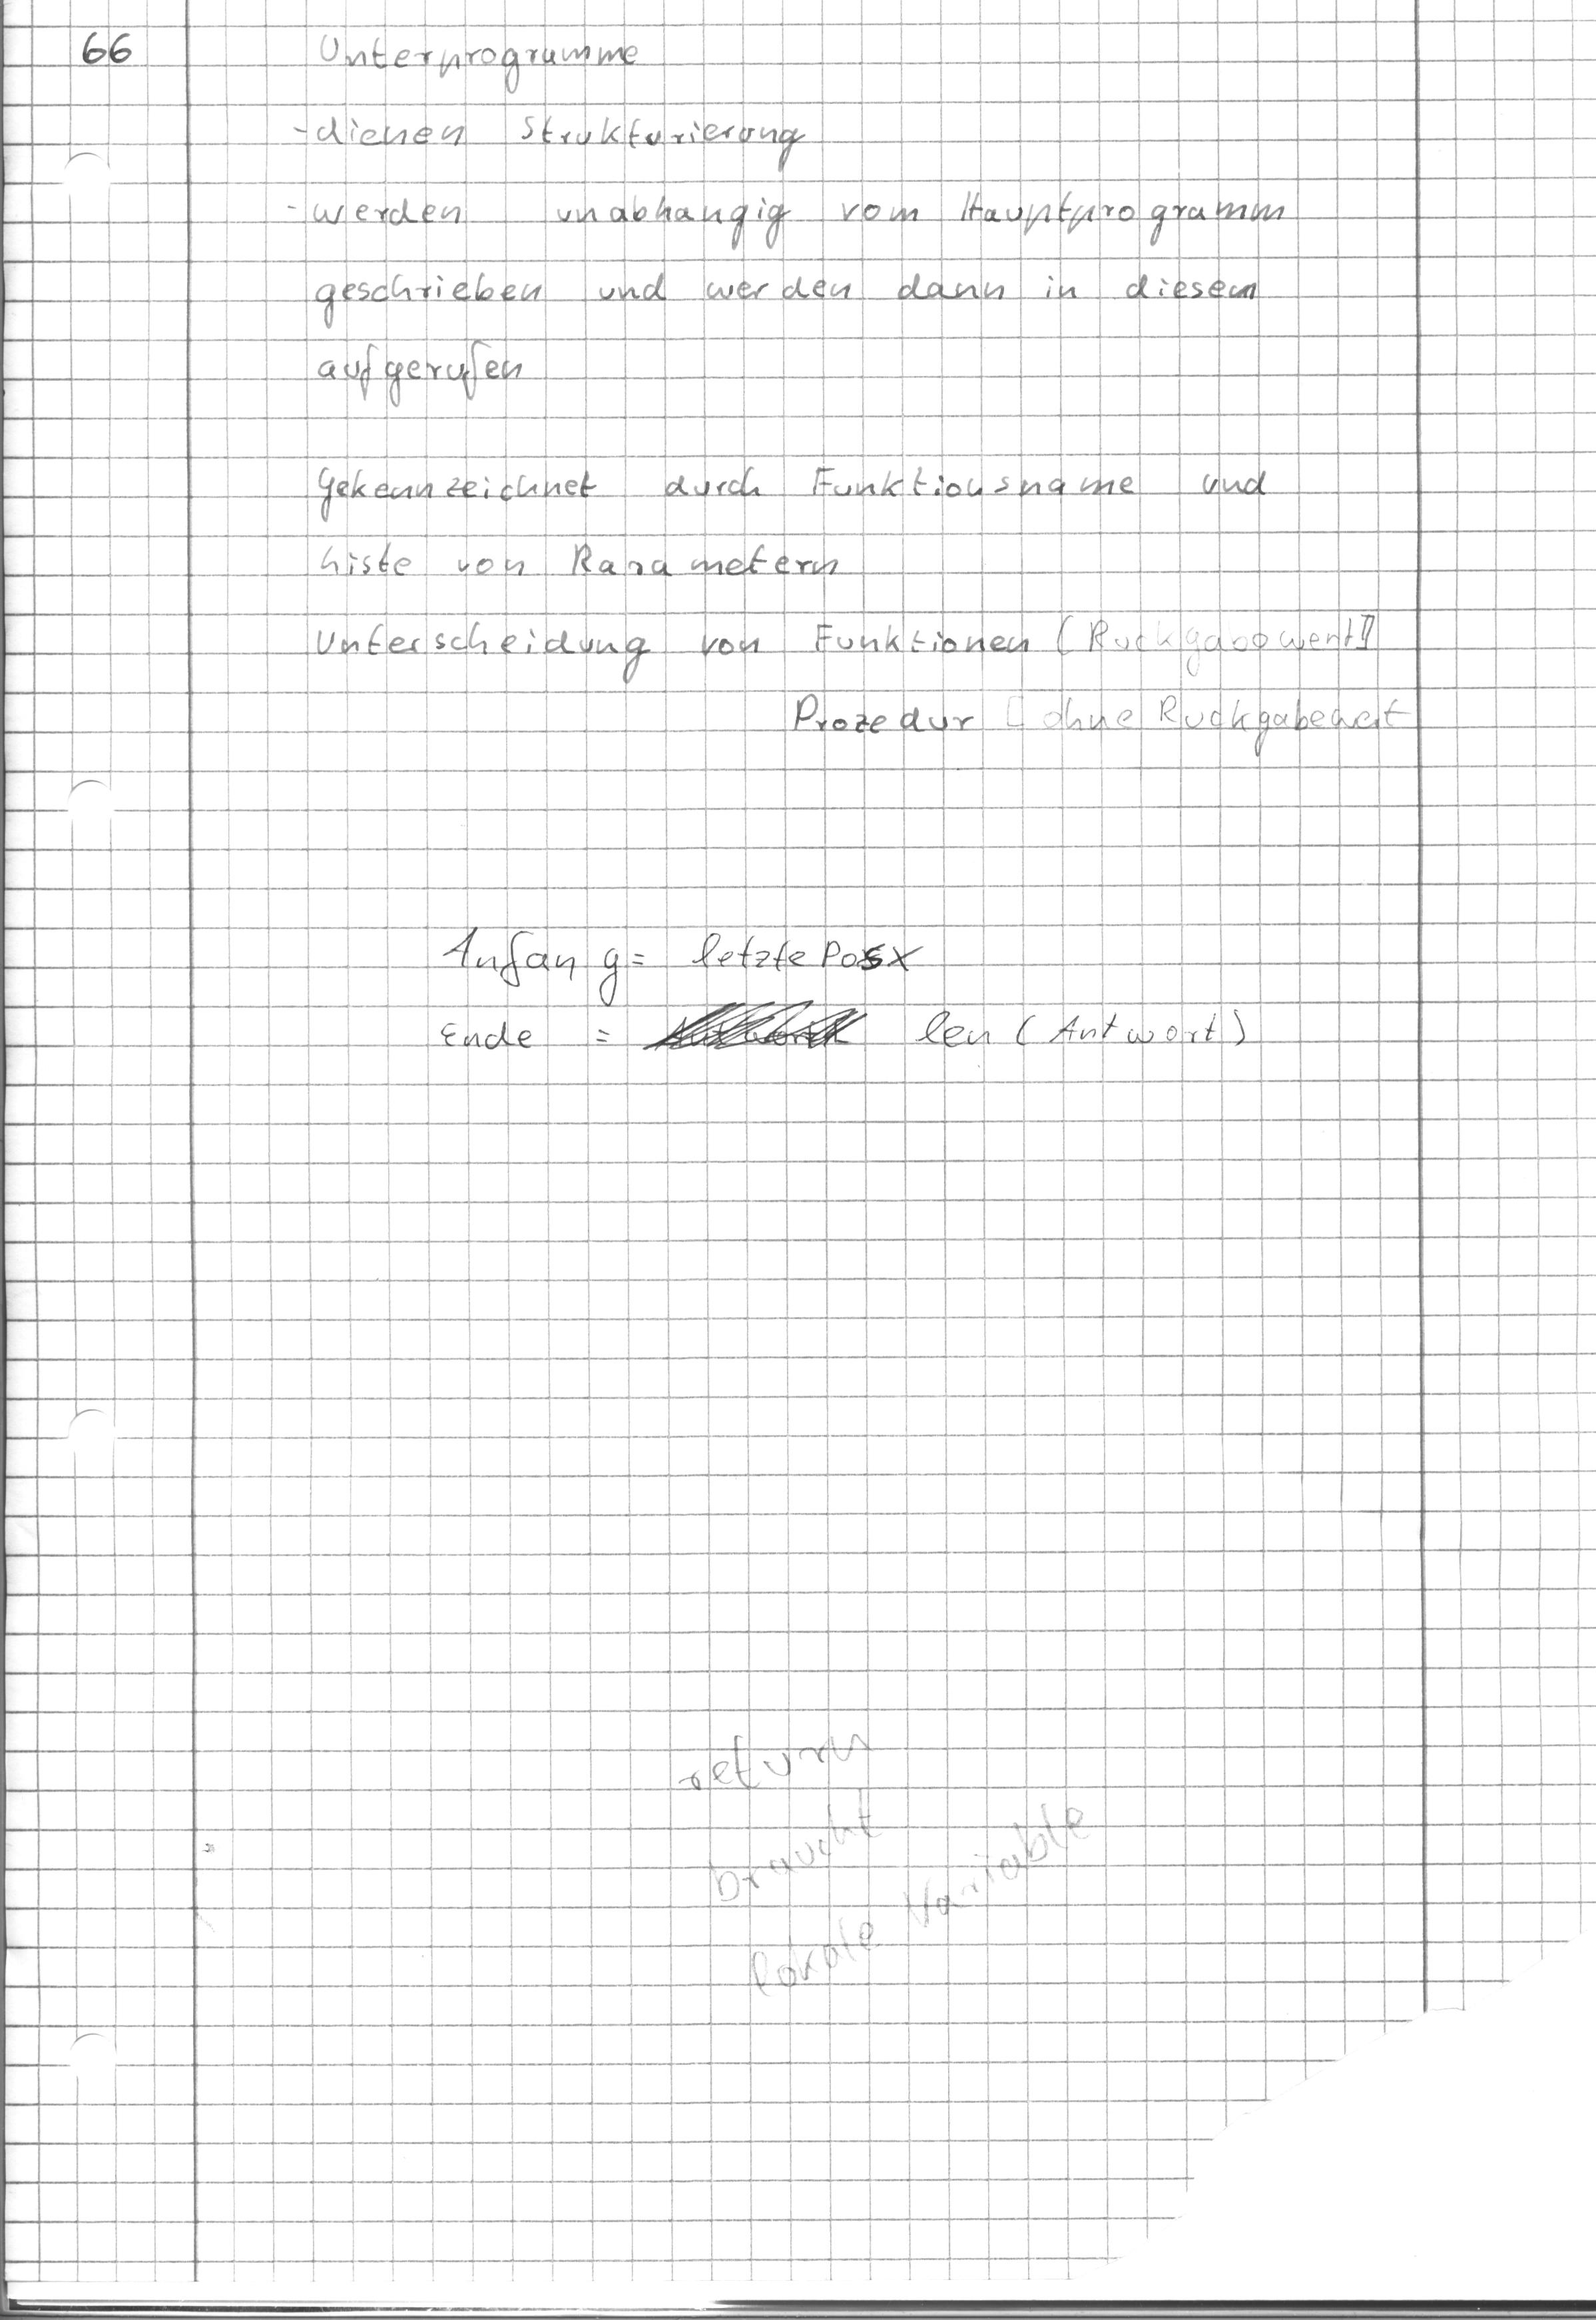word: (276, 101, 1290, 407), (308, 445, 1278, 746), (302, 15, 655, 96)
